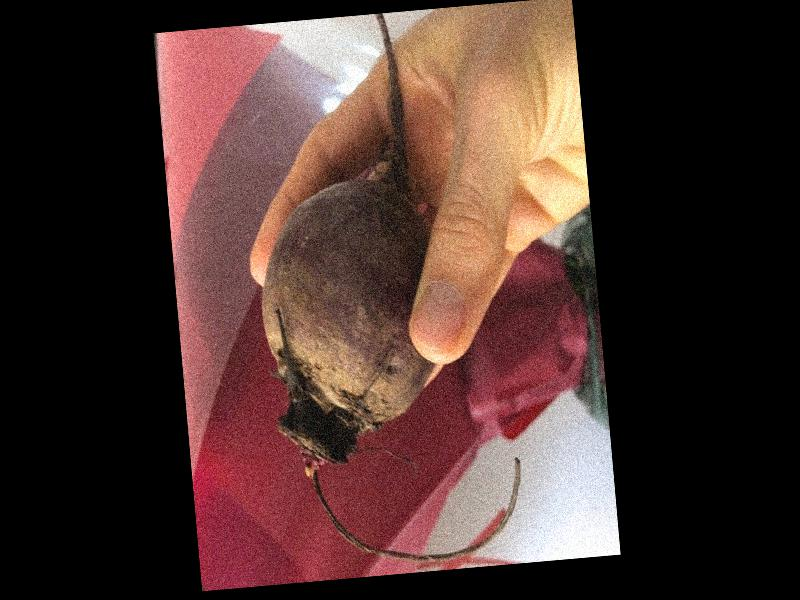Beet: (237, 6, 528, 575)
